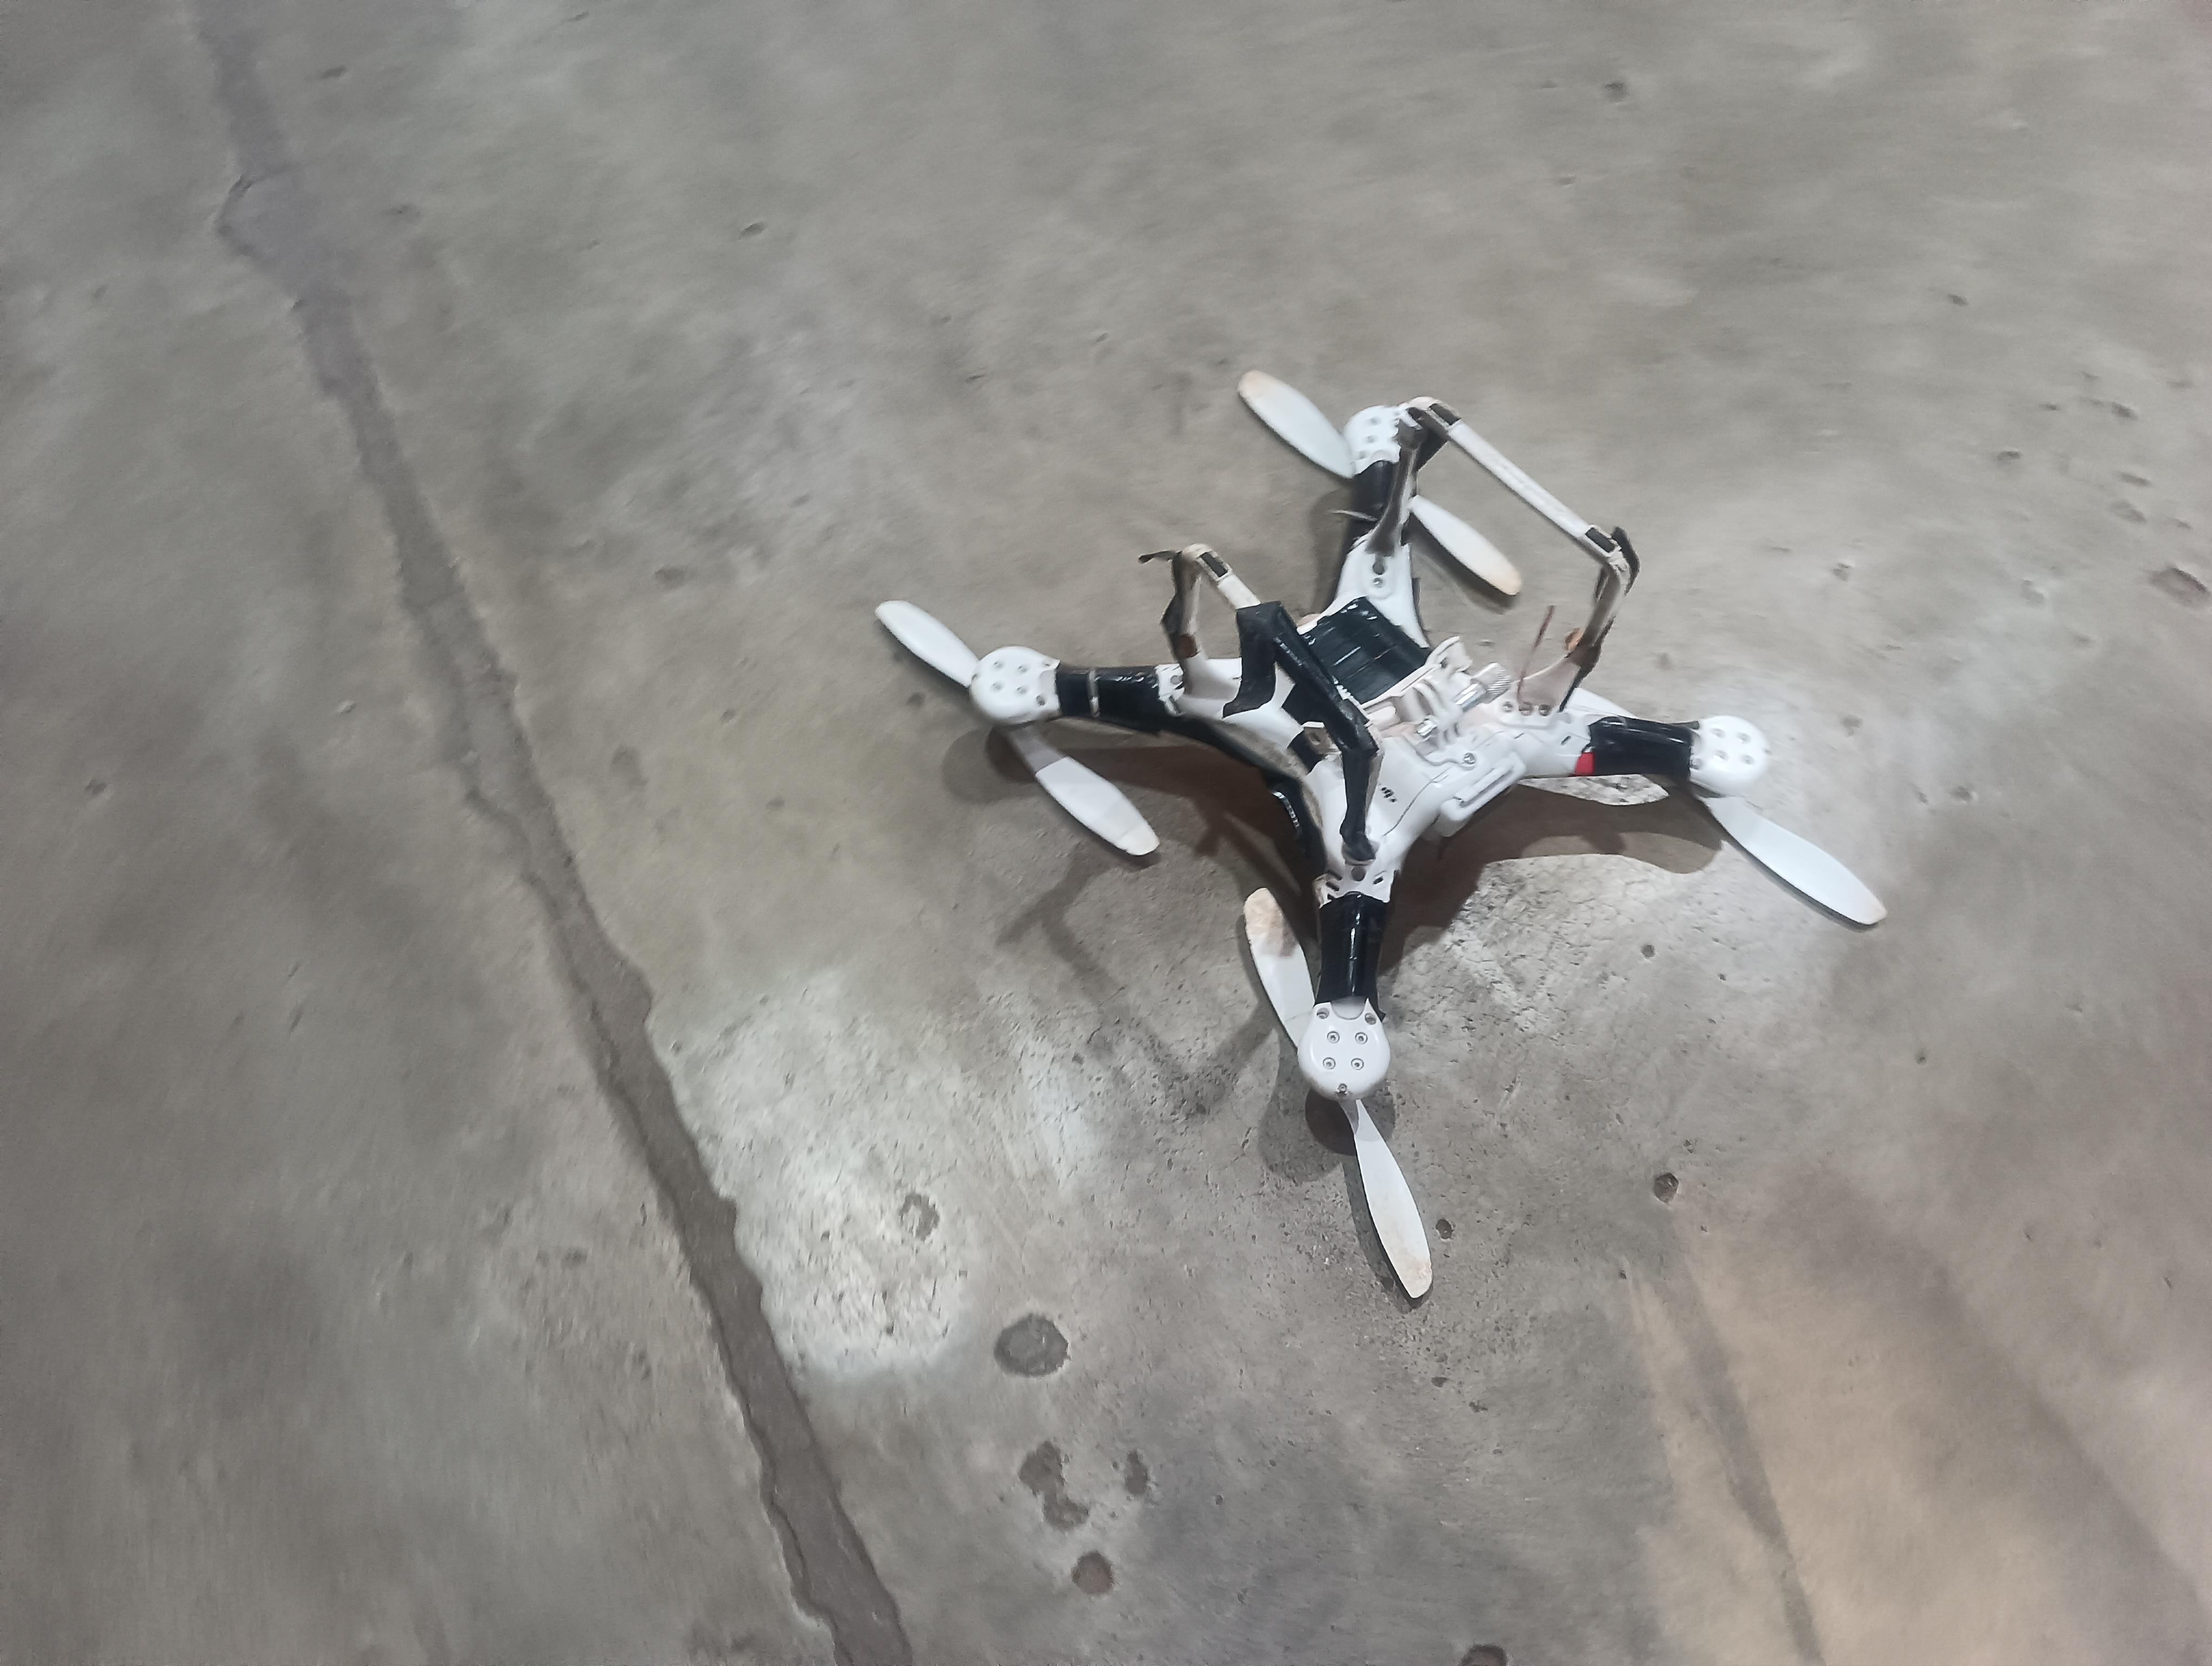drone: (820, 289, 1946, 1346)
